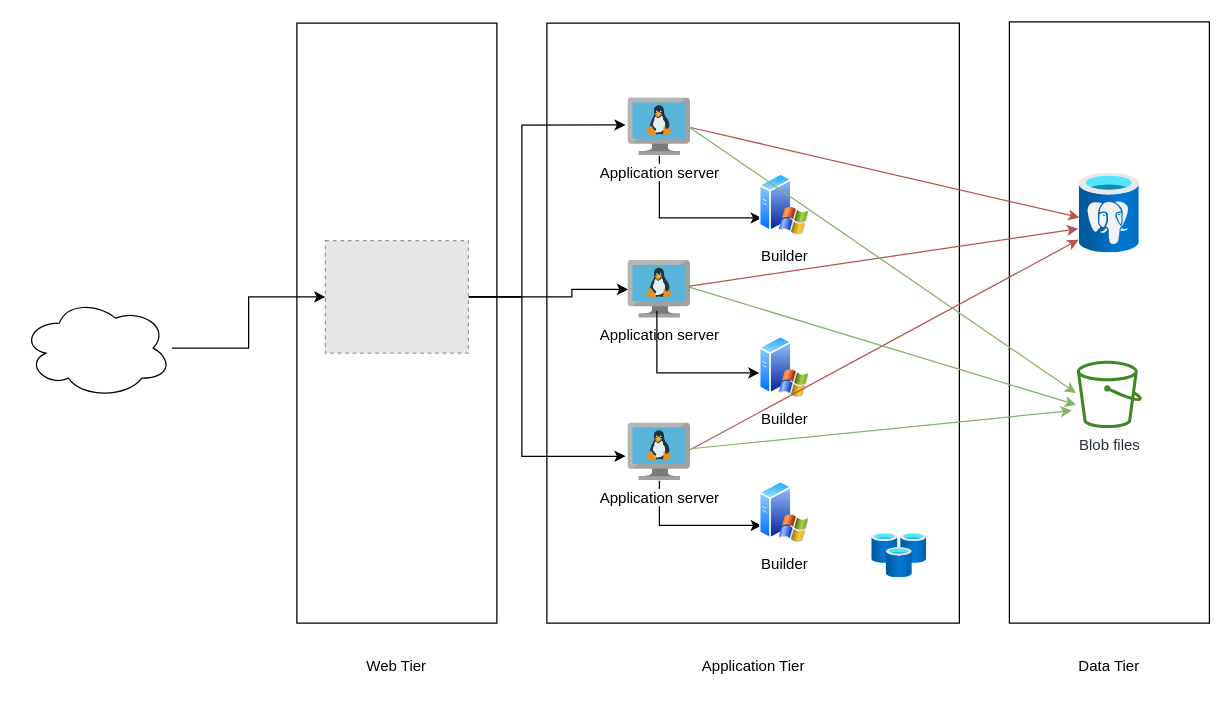
The diagram is 1231 pixels wide and 708 high, and some of its shapes have lost their labels. Grey dashed boxes stand in for pictures. The centre of each missing label's shape, as x and y in pixels:
"RDBMS" goes at point 1109,212.
"Session store" goes at point 898,555.
"Users" goes at point 96,347.
